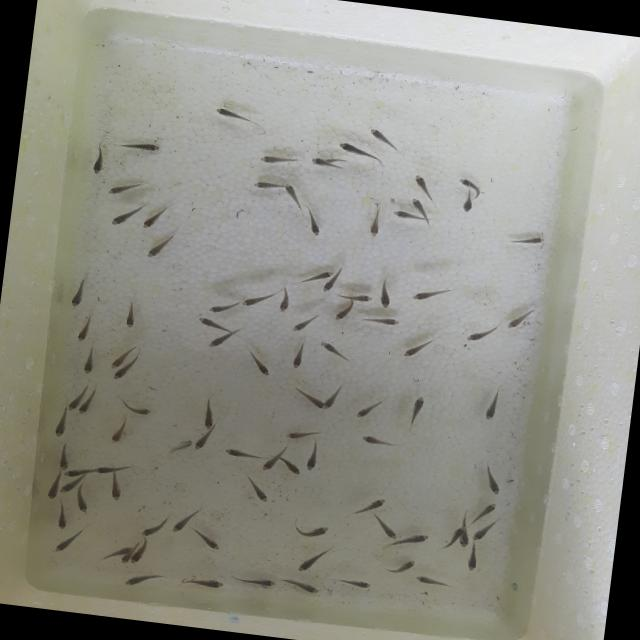fingerling: (61, 274, 98, 312), (112, 134, 170, 158), (365, 124, 411, 154), (208, 106, 267, 128), (349, 489, 392, 518), (334, 139, 384, 163), (240, 348, 278, 379), (240, 476, 276, 506), (294, 545, 328, 574), (286, 339, 313, 374), (288, 387, 326, 411), (137, 206, 172, 232), (284, 576, 325, 598), (292, 519, 328, 544), (336, 572, 381, 592), (408, 284, 452, 304), (281, 424, 321, 446), (118, 570, 162, 590), (459, 324, 498, 346), (317, 342, 356, 364), (478, 462, 504, 495), (121, 400, 162, 420), (247, 150, 290, 169), (144, 235, 174, 262), (168, 506, 195, 536), (51, 528, 82, 554), (232, 573, 278, 590), (357, 432, 398, 451), (405, 392, 427, 427), (392, 528, 427, 550), (362, 206, 386, 238), (410, 172, 442, 196), (140, 510, 167, 538), (180, 575, 224, 592), (482, 387, 502, 424), (301, 207, 326, 236), (440, 524, 464, 554), (386, 556, 416, 580), (107, 175, 138, 198), (262, 444, 284, 476), (414, 575, 453, 593), (457, 176, 492, 196), (84, 147, 105, 180), (72, 316, 95, 346), (200, 396, 220, 430), (78, 346, 99, 378), (350, 398, 378, 422), (472, 500, 496, 528), (120, 298, 140, 331), (325, 380, 346, 411), (105, 204, 132, 228), (249, 176, 285, 194), (505, 308, 532, 332), (288, 314, 317, 336), (242, 288, 272, 309), (370, 518, 400, 539), (164, 434, 192, 456), (298, 268, 332, 286), (366, 312, 402, 329), (377, 278, 396, 310), (194, 316, 232, 332), (96, 542, 134, 558), (400, 339, 430, 359), (462, 546, 482, 575), (106, 420, 126, 448), (196, 530, 224, 550), (512, 233, 544, 250), (52, 404, 68, 438), (332, 301, 359, 321), (96, 460, 126, 478), (341, 288, 373, 304), (204, 300, 236, 316), (75, 484, 91, 516), (222, 446, 256, 461), (52, 502, 70, 530), (282, 182, 302, 206), (105, 478, 125, 502), (130, 547, 154, 567), (304, 448, 322, 474), (306, 156, 335, 172), (44, 473, 60, 502), (471, 521, 492, 543), (62, 464, 92, 479), (408, 196, 429, 217), (105, 348, 125, 370), (111, 363, 133, 382), (280, 457, 302, 476), (276, 286, 292, 312), (56, 440, 70, 469), (391, 210, 424, 222), (458, 194, 480, 212), (80, 391, 96, 415), (318, 278, 339, 296), (195, 430, 212, 452), (68, 385, 82, 411), (456, 530, 474, 549), (210, 334, 232, 349), (60, 478, 76, 494), (118, 552, 132, 564)
